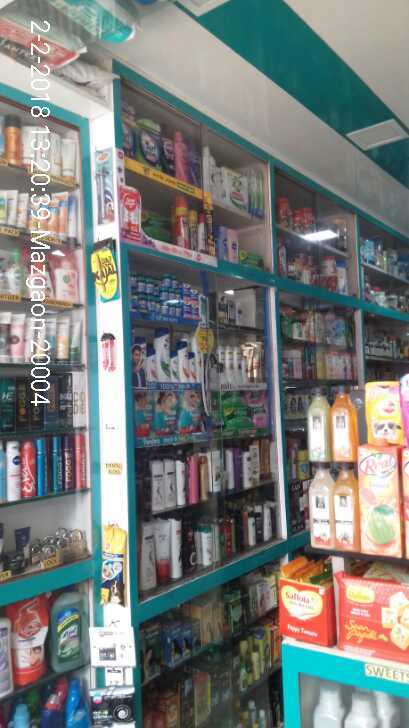beauty: (153, 324, 171, 384), (177, 340, 195, 380)
pharmacy: (137, 275, 155, 294), (136, 290, 147, 315), (163, 273, 176, 292), (182, 299, 191, 320), (147, 293, 155, 313), (191, 300, 199, 317)
